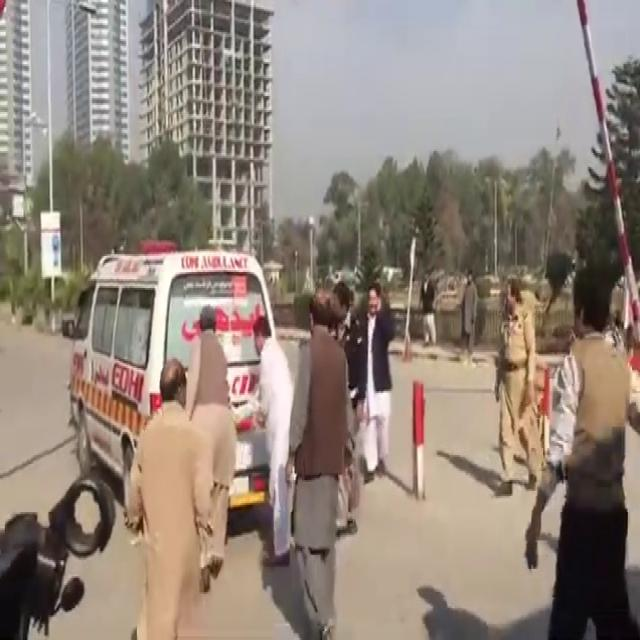ambulance: (66, 262, 295, 499)
